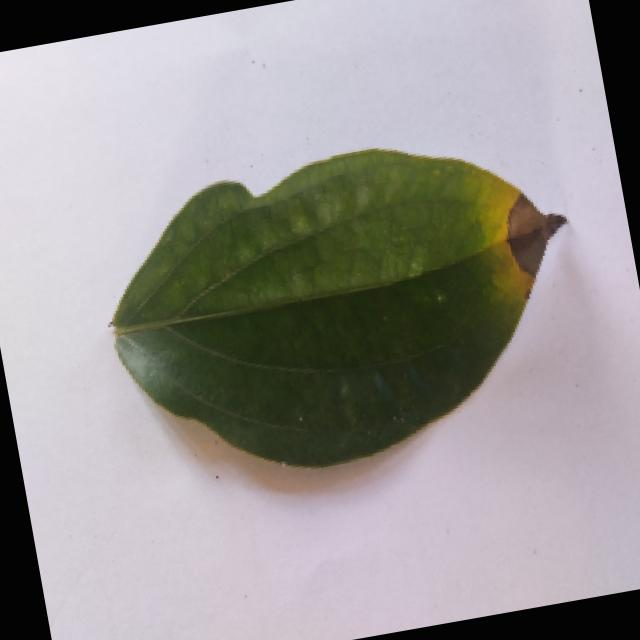footrot: (77, 112, 604, 500)
